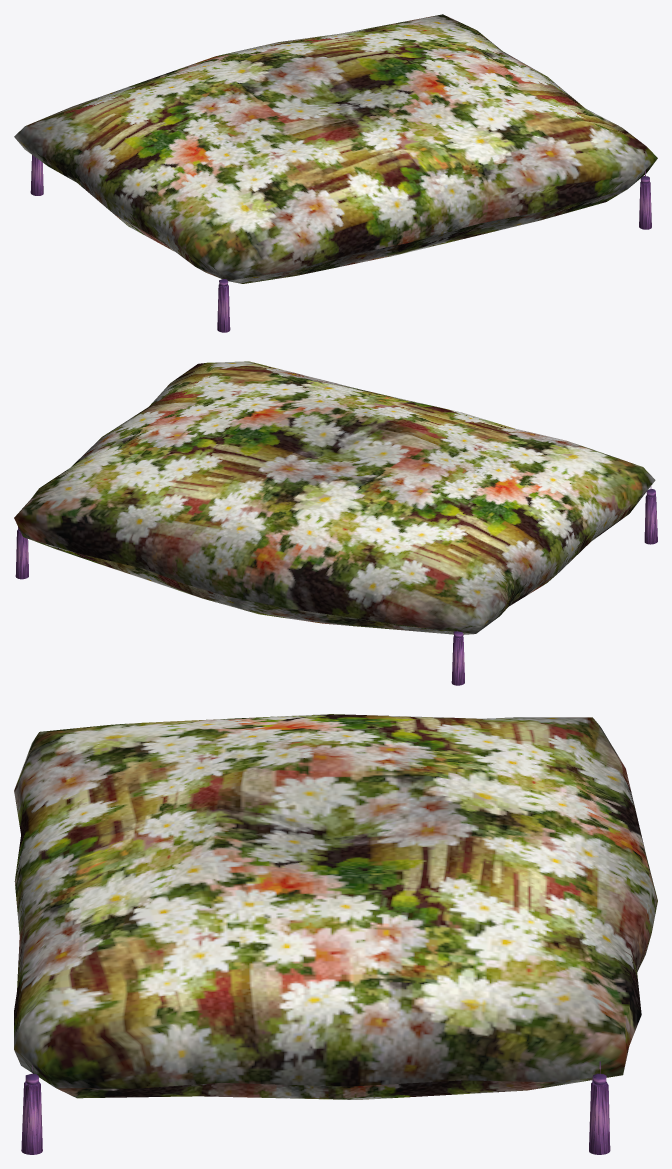
The model's file is CushionSet1.b.fbx.
3 views of the same model, one above another, from view 1: azimuth 30°, elevation 25°; view 2: azimuth 150°, elevation 25°; view 3: azimuth 270°, elevation 25° (orthographic). The views are drawn at different scales.
Visible parts, largest first — view 1: Group 0; view 2: Group 0; view 3: Group 0.
Part boxes in pixels (<box>): Group 0: <box>14,14,657,332</box>; Group 0: <box>14,361,657,685</box>; Group 0: <box>14,714,657,1154</box>.
Bounding box in the file's own units: 79.56 × 18.63 × 63.08.
1 material, 1 textured.
